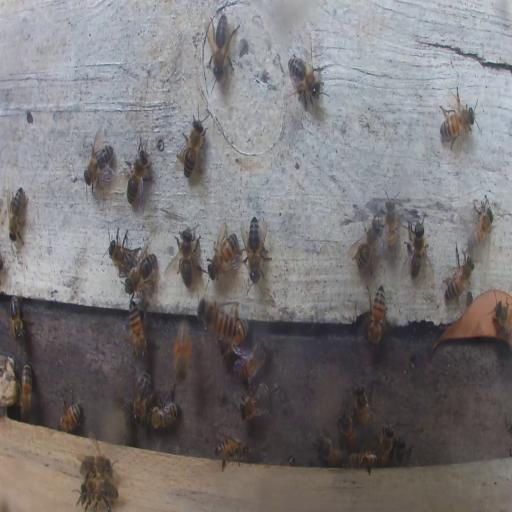bee: (288, 46, 324, 106), (176, 111, 207, 180), (349, 213, 384, 272), (206, 12, 236, 77), (82, 136, 116, 193), (443, 244, 475, 302), (244, 213, 270, 282), (105, 224, 137, 276), (126, 140, 151, 206), (194, 302, 246, 333), (208, 228, 239, 280), (234, 340, 269, 383), (405, 214, 428, 276), (438, 103, 476, 140), (79, 476, 118, 512), (174, 225, 196, 287), (172, 319, 192, 387), (126, 252, 156, 297), (366, 284, 387, 347), (127, 301, 148, 362), (240, 382, 269, 423), (218, 314, 247, 354), (7, 186, 27, 244), (469, 199, 493, 247), (131, 370, 152, 424), (215, 437, 250, 469), (315, 431, 346, 467), (148, 398, 178, 430), (354, 380, 373, 428), (384, 193, 398, 255), (58, 400, 84, 432), (378, 421, 396, 464), (20, 361, 33, 418), (338, 408, 358, 444), (79, 453, 110, 476), (348, 450, 378, 472), (11, 295, 24, 342), (394, 438, 410, 464)
